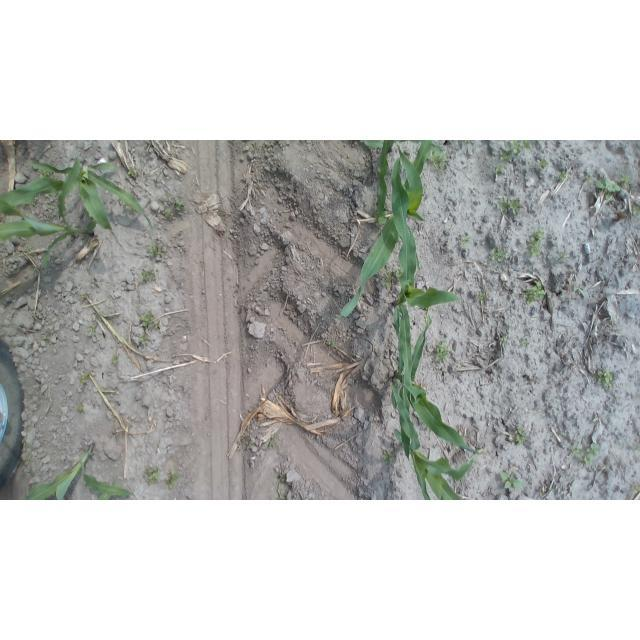Maize: (388, 156, 470, 397), (336, 141, 440, 326), (390, 309, 483, 463), (1, 154, 160, 234), (0, 151, 98, 270), (389, 382, 480, 500), (21, 440, 138, 500)
Weeds: (499, 140, 539, 162), (570, 441, 601, 468), (498, 471, 531, 493), (594, 174, 622, 199), (427, 145, 451, 172), (526, 228, 546, 260), (495, 196, 525, 216), (522, 280, 546, 305), (275, 470, 294, 500), (432, 337, 452, 365), (139, 311, 163, 331), (384, 268, 405, 289), (597, 366, 616, 388), (488, 245, 509, 264), (147, 241, 166, 261), (240, 432, 259, 452), (142, 465, 160, 484), (138, 267, 158, 283), (514, 426, 529, 446), (165, 469, 178, 492), (572, 282, 589, 299), (126, 167, 143, 182), (552, 168, 570, 182), (618, 171, 632, 189), (382, 449, 396, 467), (173, 200, 188, 216), (375, 210, 389, 227), (85, 324, 103, 337), (536, 155, 549, 173), (460, 234, 473, 252), (160, 208, 176, 222), (264, 433, 277, 449), (77, 375, 95, 386), (43, 328, 55, 344), (38, 168, 55, 179), (137, 335, 152, 347), (580, 170, 592, 185), (492, 161, 504, 175), (74, 402, 85, 417), (630, 204, 640, 220), (521, 338, 534, 350), (109, 353, 121, 366), (25, 244, 37, 256), (557, 251, 570, 262), (631, 485, 640, 500), (159, 196, 170, 207), (325, 337, 335, 349), (476, 290, 485, 303), (501, 334, 511, 344), (632, 443, 640, 454), (460, 140, 476, 145), (560, 430, 568, 439)
